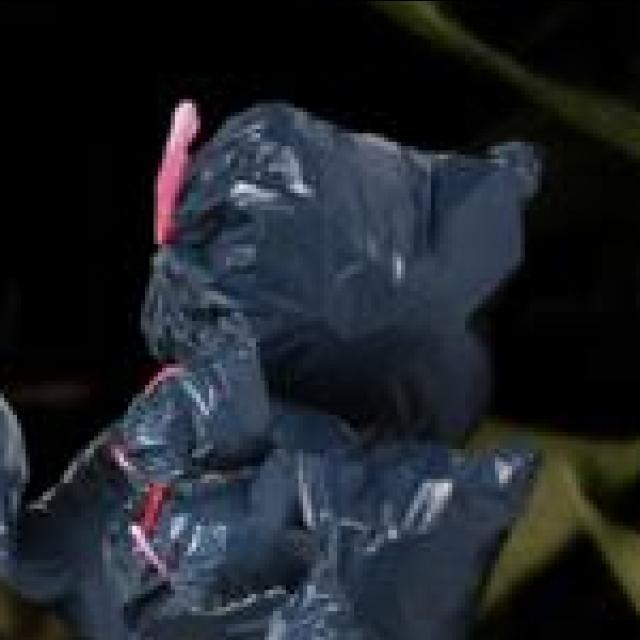Trashbag: (141, 89, 538, 453), (133, 441, 330, 610)
